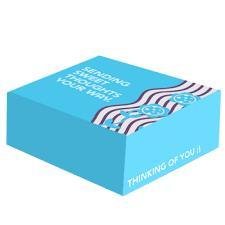box: (6, 55, 221, 197)
